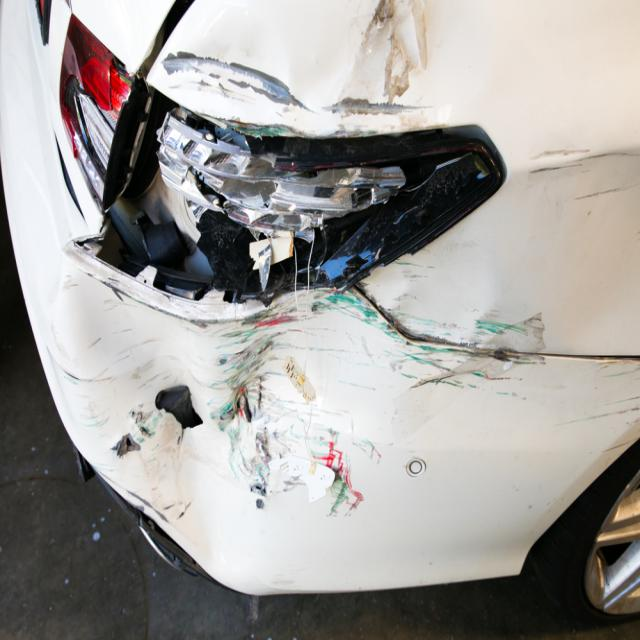dent: (68, 251, 458, 570), (165, 1, 450, 141), (359, 241, 503, 349)
lamp broken: (60, 18, 505, 303)
scratch: (559, 358, 640, 475), (526, 140, 640, 206), (437, 346, 550, 403), (486, 307, 547, 353)
